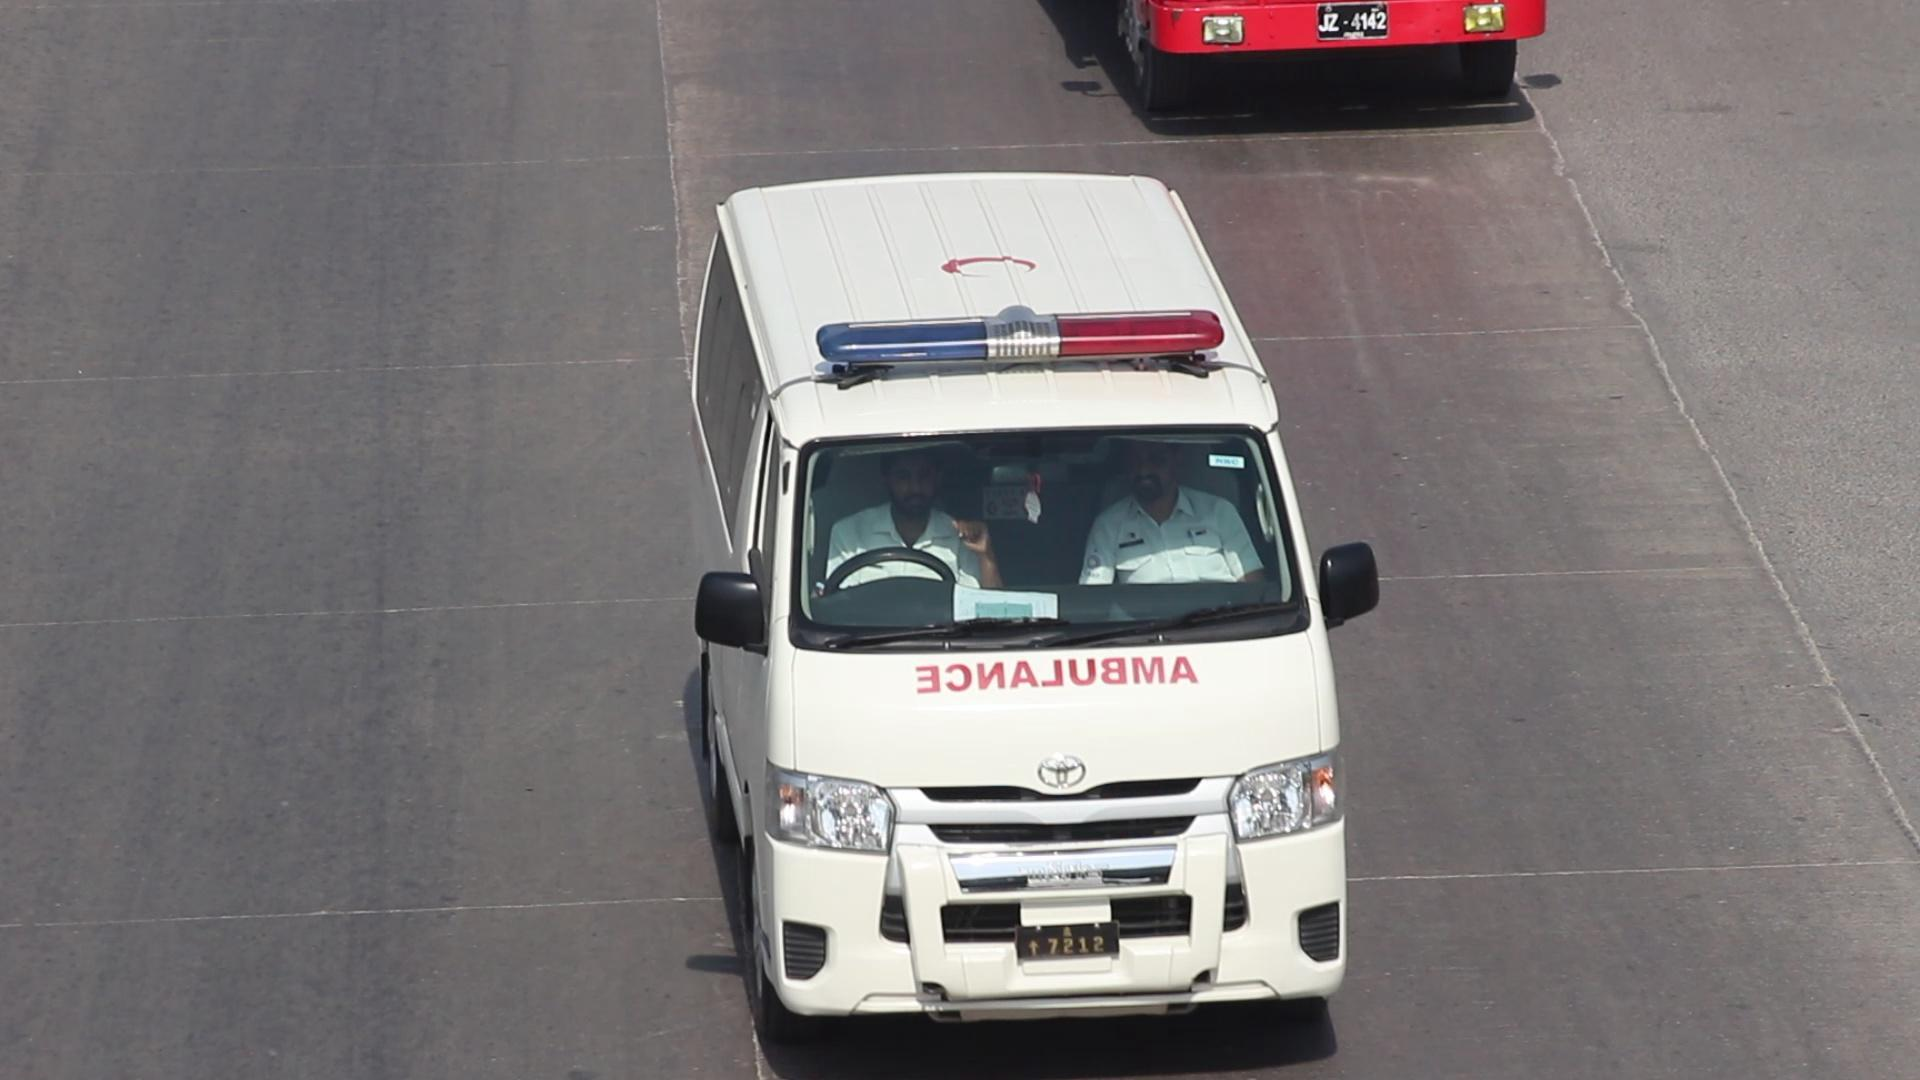windshield: (787, 413, 1331, 674)
